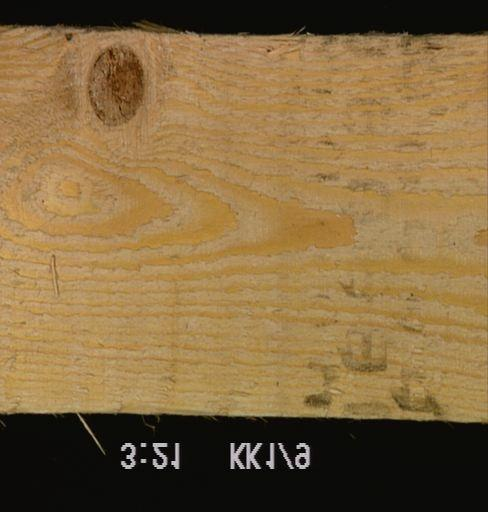sound_knot: (84, 43, 145, 128)
